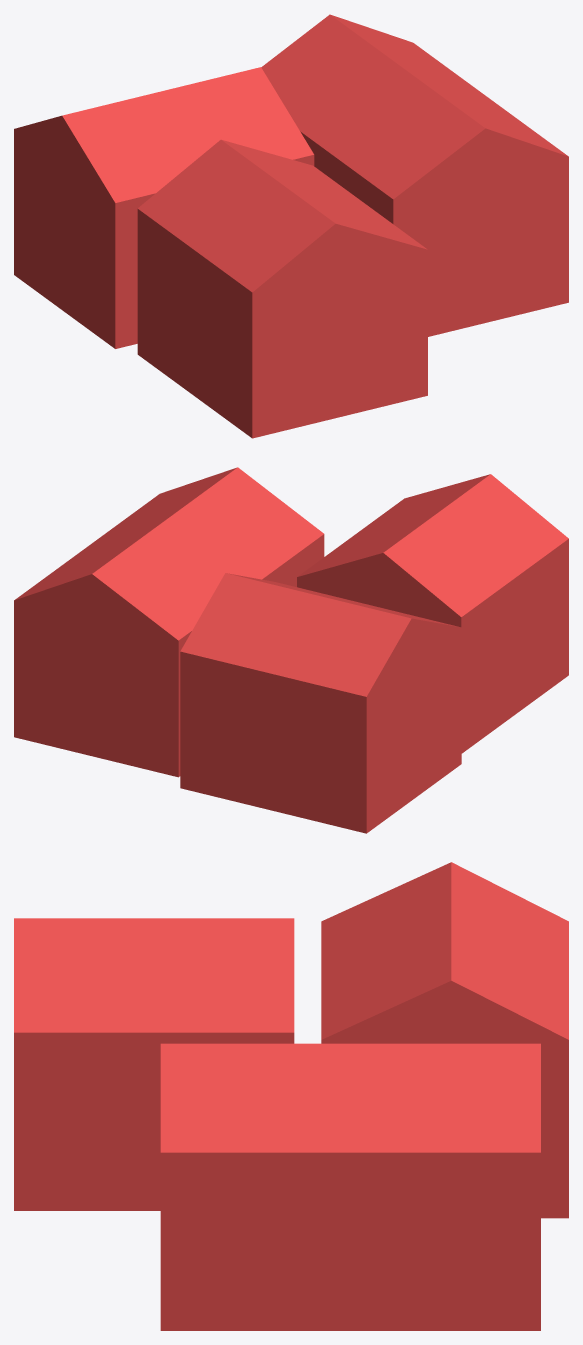
Rendered from SM_Small_City_02.fbx.
3 views of the same model, one above another, from view 1: azimuth 30°, elevation 25°; view 2: azimuth 150°, elevation 25°; view 3: azimuth 270°, elevation 25° (orthographic). The views are drawn at different scales.
Visible parts, largest first — view 1: SM_Small_City_02; view 2: SM_Small_City_02; view 3: SM_Small_City_02.
Part boxes in pixels (bbox=[...]): SM_Small_City_02: bbox=[14, 14, 568, 438]; SM_Small_City_02: bbox=[14, 467, 568, 833]; SM_Small_City_02: bbox=[14, 862, 568, 1330].
Size of the model in its own units: 13.96 by 6.69 by 14.17.
